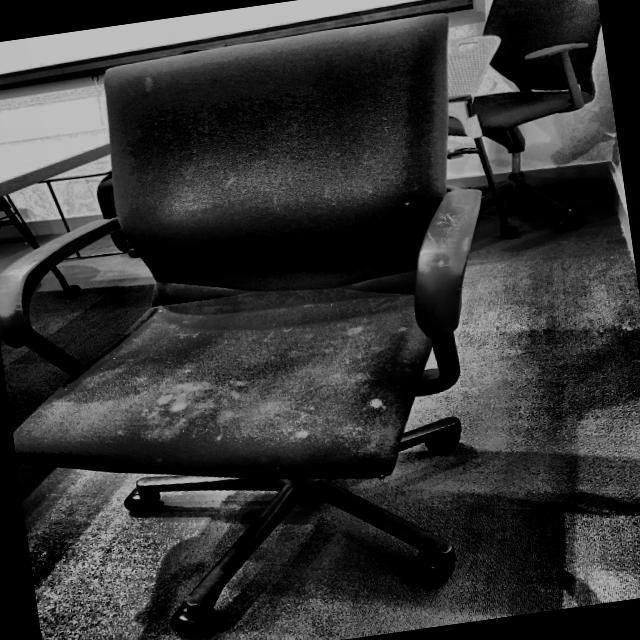chair: (0, 8, 538, 640)
